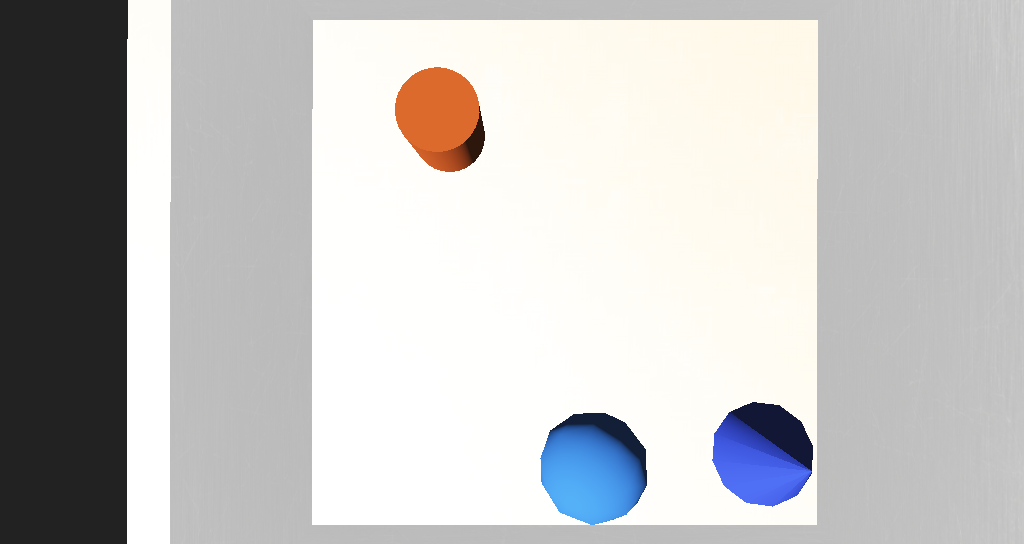cone: (404, 186, 458, 224)
cylinder: (593, 317, 674, 379)
sphere: (485, 327, 552, 370)
